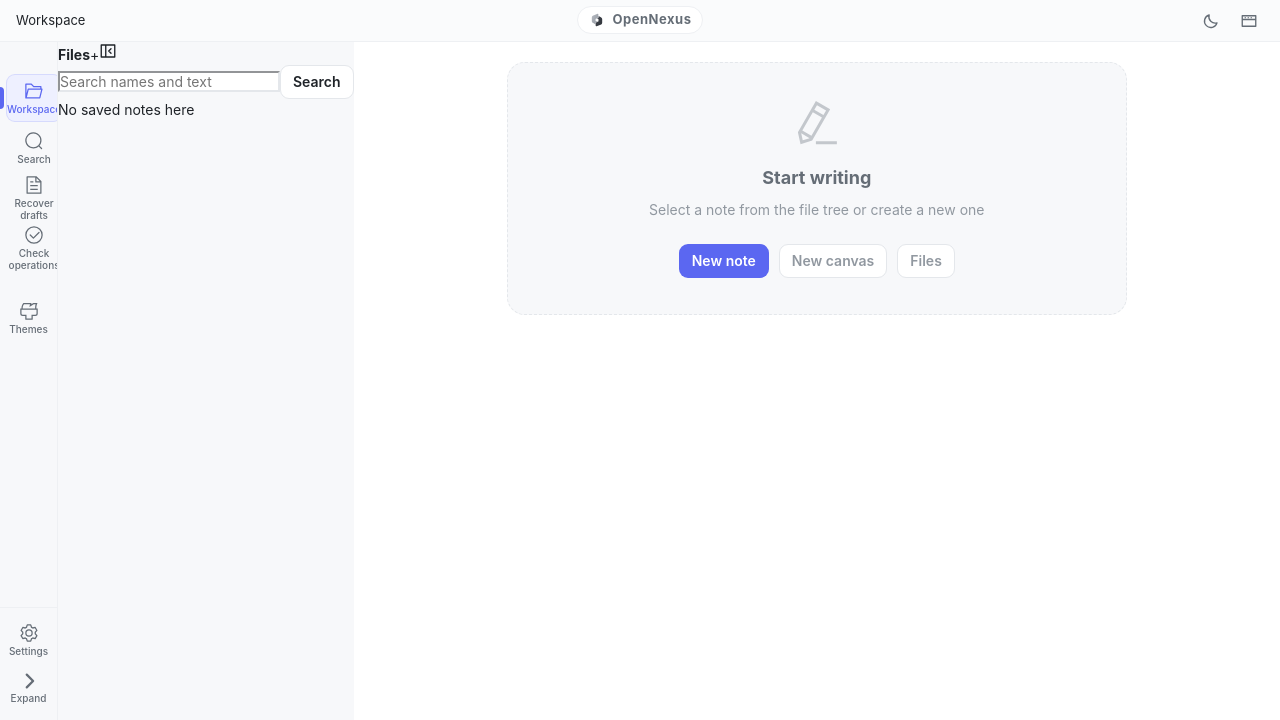
Test: changes interface language without rereading or changing the native vault
Expected: the element with class "empty-workspace" is shown, top-left (507, 62), bottom-right (1127, 315)
Click the button named "Settings".
click(1249, 20)  # box top-left (1234, 6), bottom-right (1264, 36)
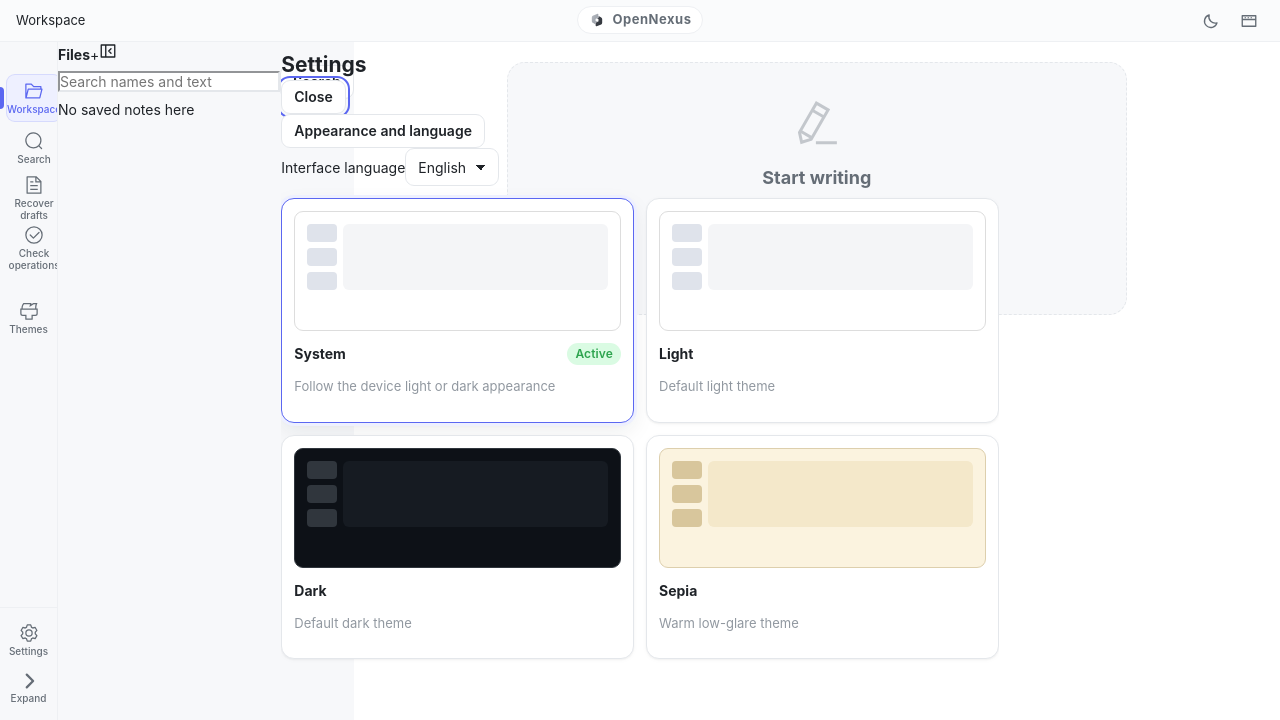
Select "中文" in the dropdown named "Interface language" at [452, 167], box top-left (405, 148), bottom-right (499, 186)
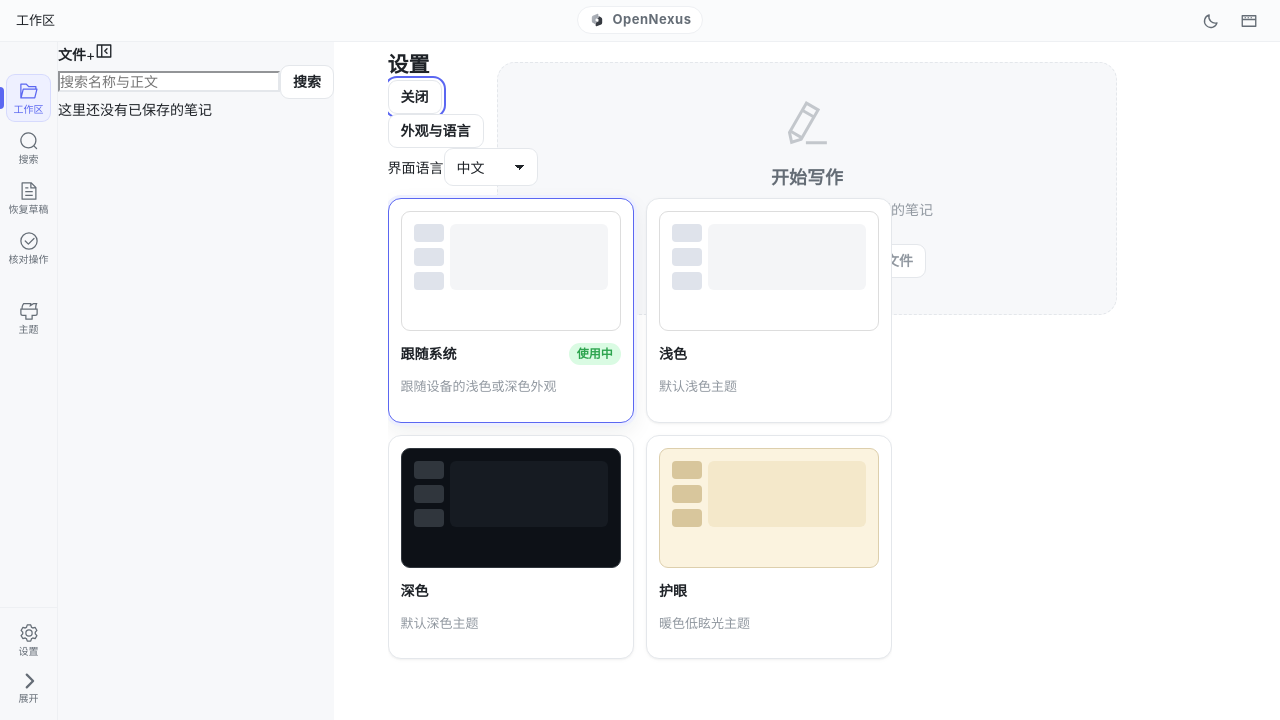
Result: the text "开始写作" is shown at top-left (771, 167), bottom-right (843, 188)
